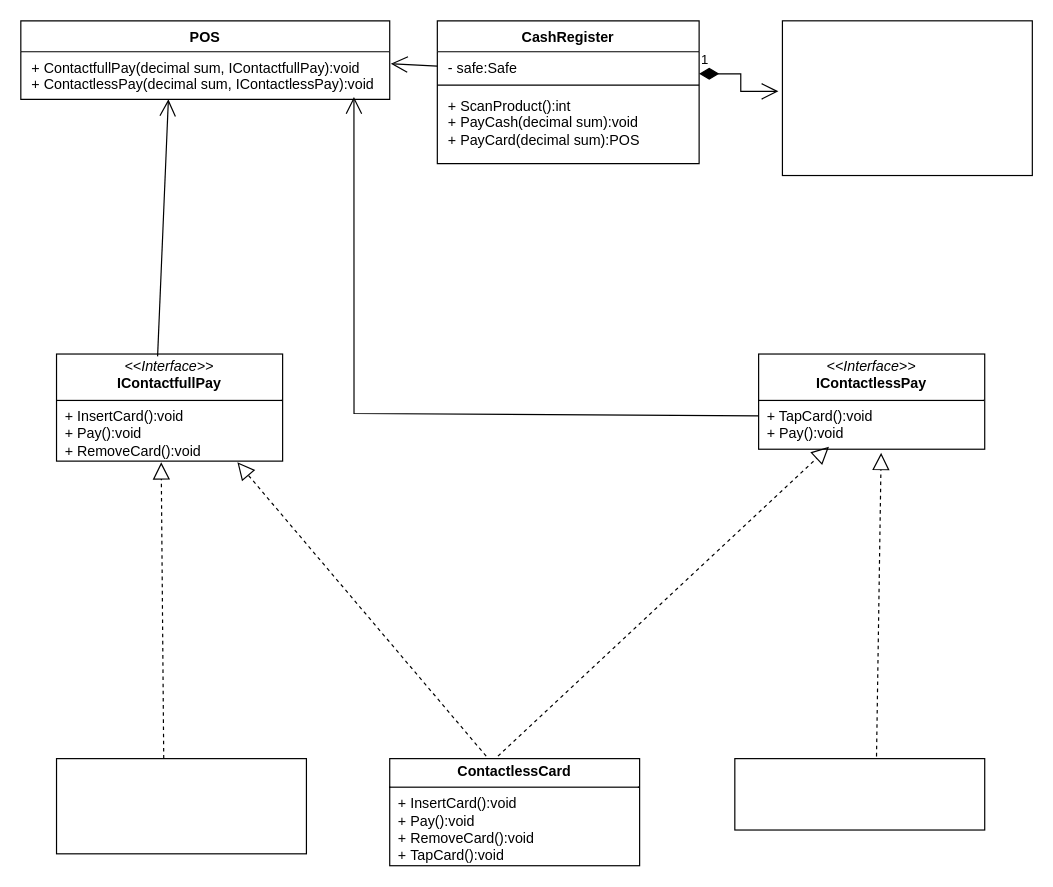
Some shapes in this 1053 by 887 pixel diagram are drawn without their labels. The shapes that lost their labels are listed below. From the top down, each one's centre as x and y in pixels, then its label:
At (x=906, y=98): "Safe - sum:decimal + Open():void + DepositSum(decimal sum):void + Close():void".
At (x=180, y=805): "ClassicCard + InsertCard():void + Pay():void + RemoveCard():void".
At (x=859, y=793): "ContactlessSmartphone + TapCard():void + Pay():void".
